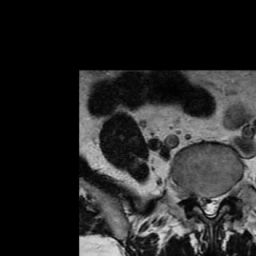CCS_normal: (206, 187, 213, 223)
LFS_stenosis: (221, 183, 227, 205)
LLS_normal: (213, 186, 221, 220)
RFS_stenosis: (190, 183, 199, 207)
RLS_normal: (199, 185, 206, 219)
